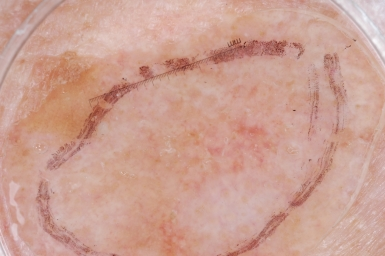seborrheic keratosis: (28, 41, 352, 255)
